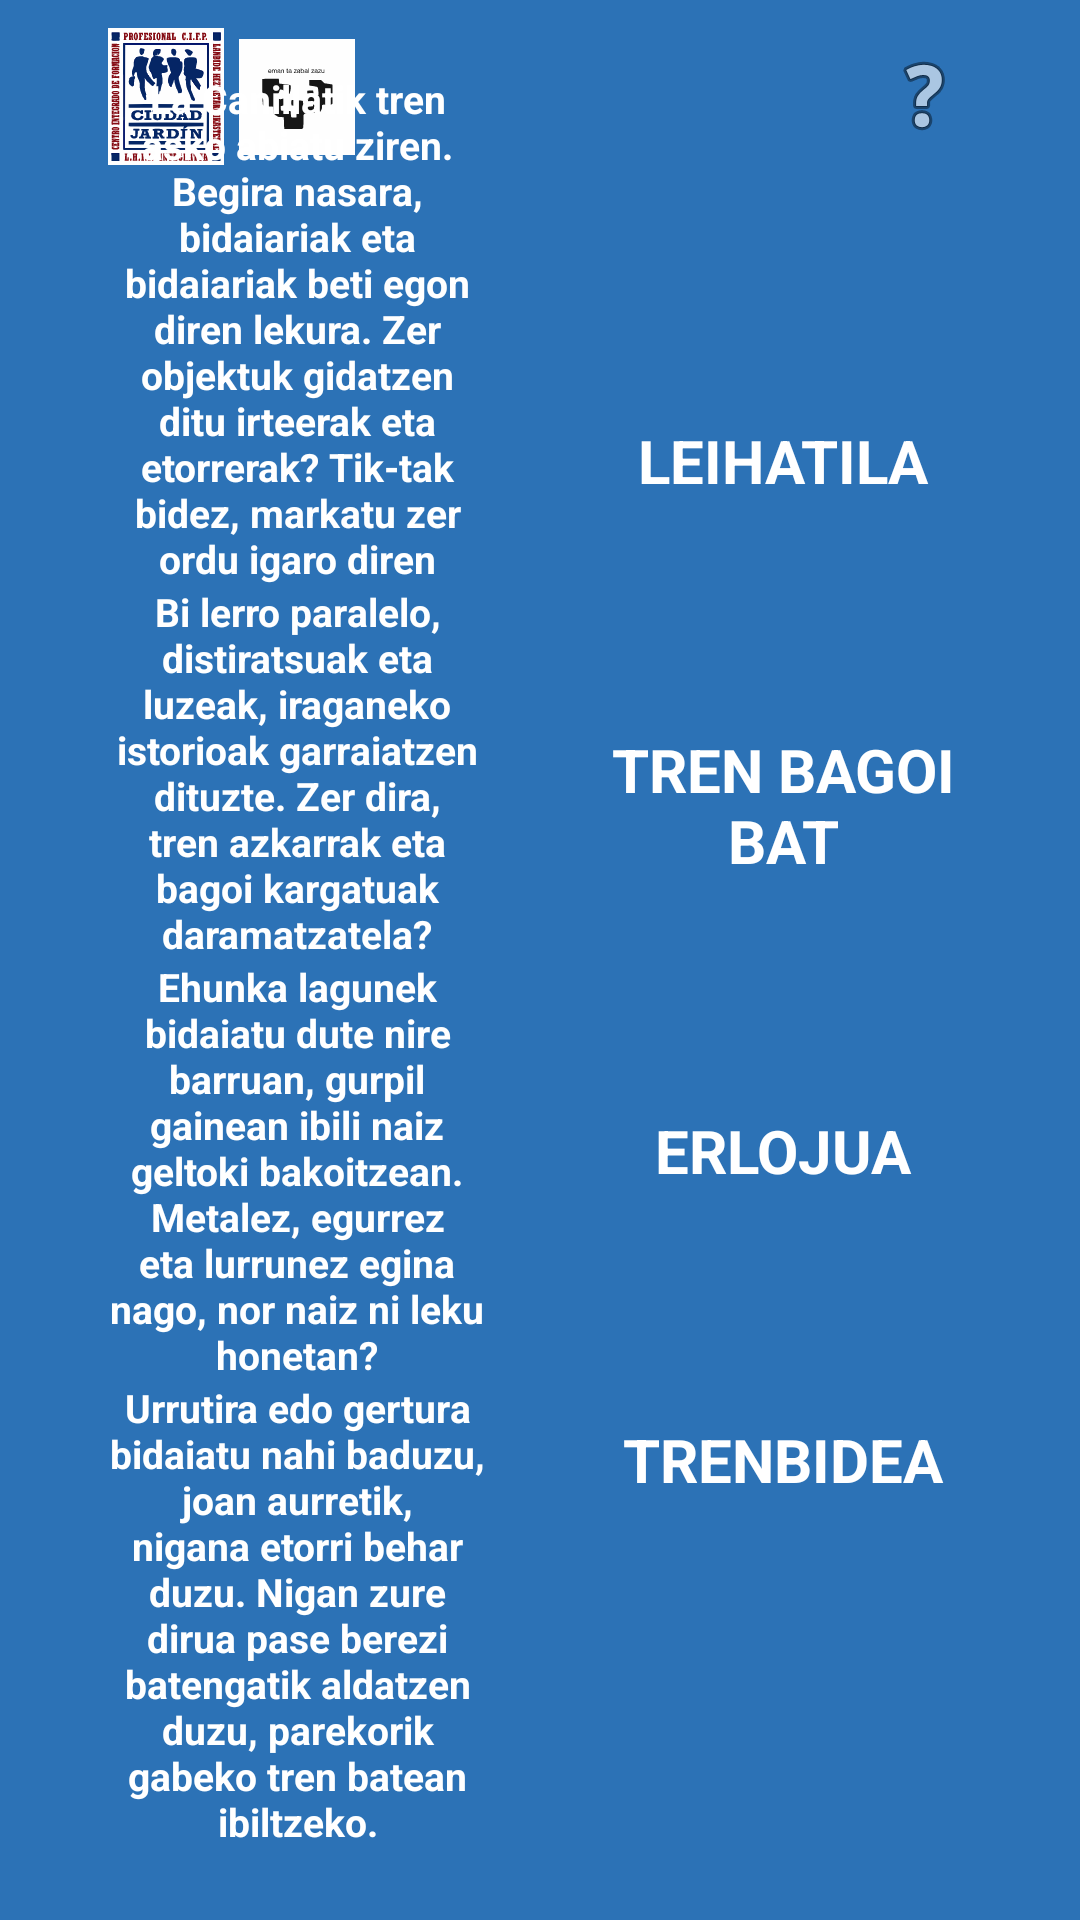

Where to tap for icons on this 1080w x 1920h app screen, as (x=x, y=y):
help: (x=924, y=96)
